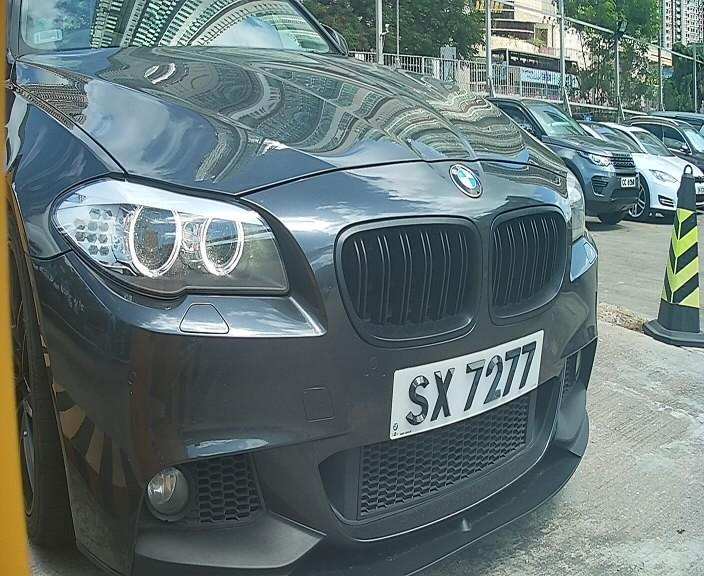privatecar: (1, 29, 623, 556)
